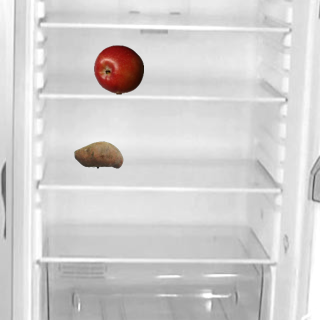Apple Braeburn: (93, 44, 143, 94)
Potato Sweet: (73, 129, 123, 179)
